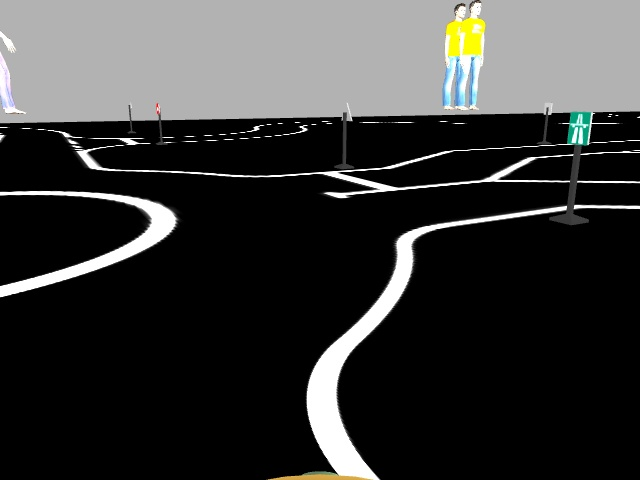HighwayEntrance: (567, 109, 592, 148)
